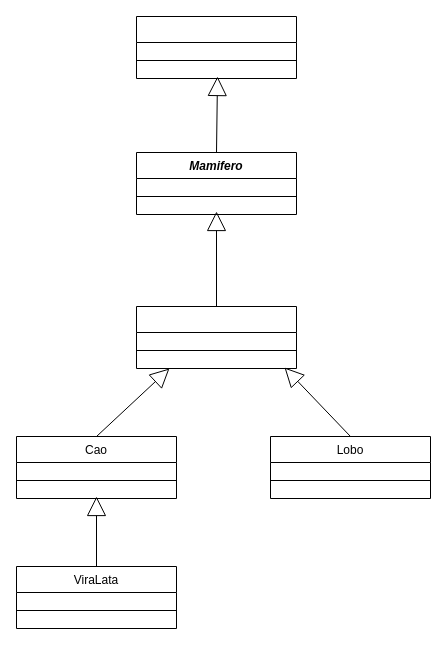
Image size: 447x645. Some labels were removed from this diagram. Here are the shapes that lost their labels. From the top down, the box of each, then its label:
(136, 16, 296, 78): Animal
(136, 306, 296, 368): Canino
